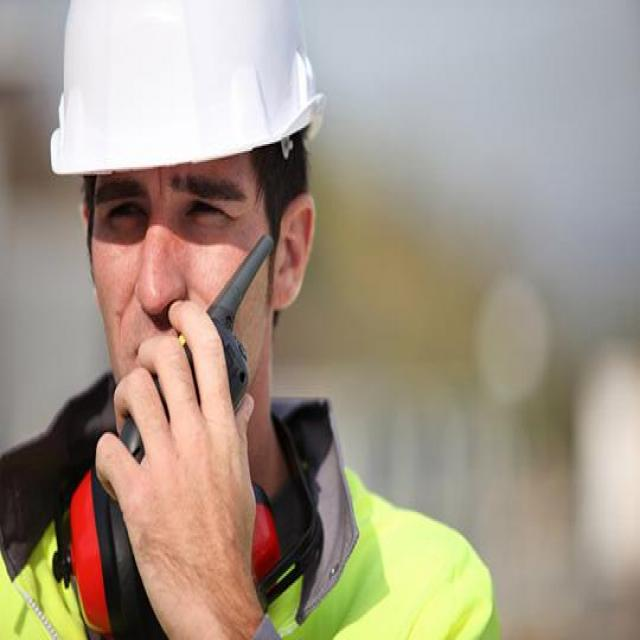Reflective-Jacket: (0, 416, 508, 638), (263, 492, 499, 636)
Safety-Helmet: (50, 7, 326, 181)
